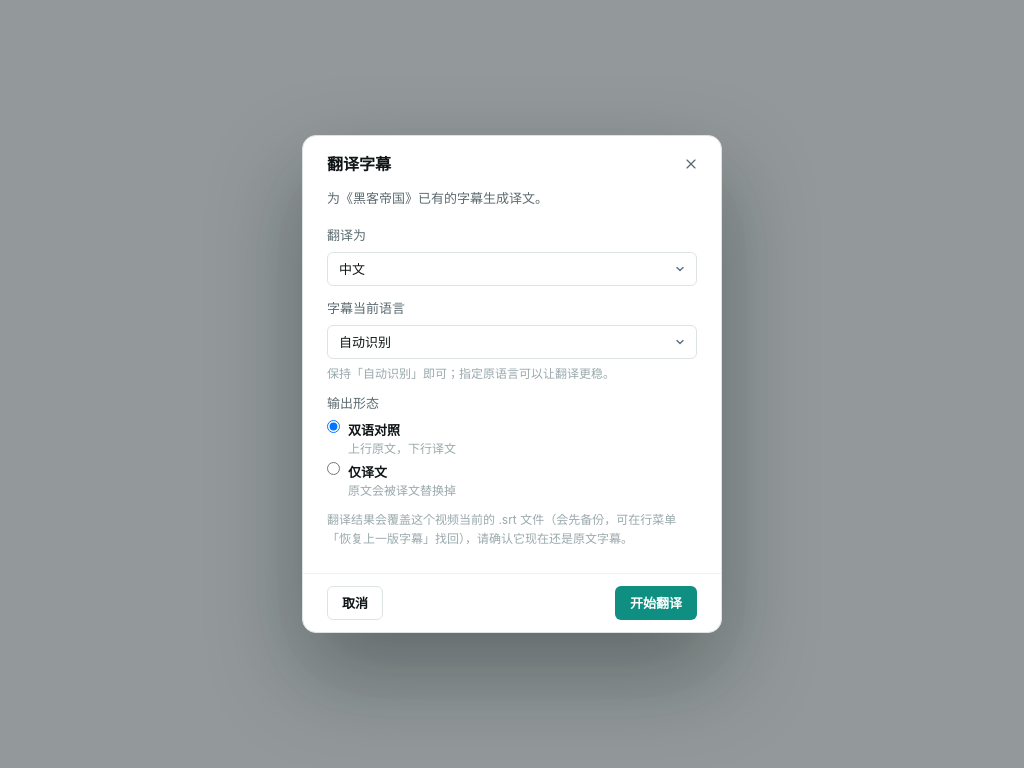
Test: 字幕翻译：后台继续与结果 › MEDIA-05 覆盖成功后说明原字幕已备份，结果里不出现绝对路径
Click the button with test id "subtitle-translate-start": click(656, 603) top-left (615, 586), bottom-right (697, 620)
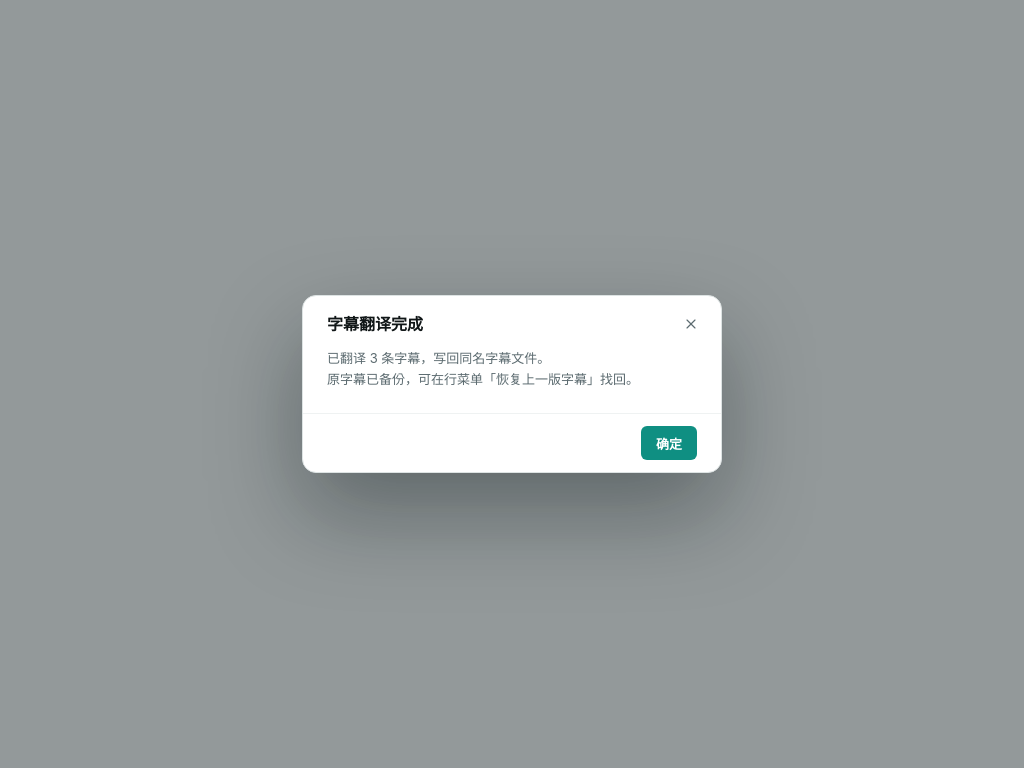
Check: the text with test id "subtitle-translate-msg" shows "已翻译 3 条字幕，写回同名字幕文件。", box top-left (327, 350), bottom-right (639, 386)
Check: the text with test id "subtitle-translate-msg" shows "原字幕已备份", box top-left (327, 350), bottom-right (639, 386)
